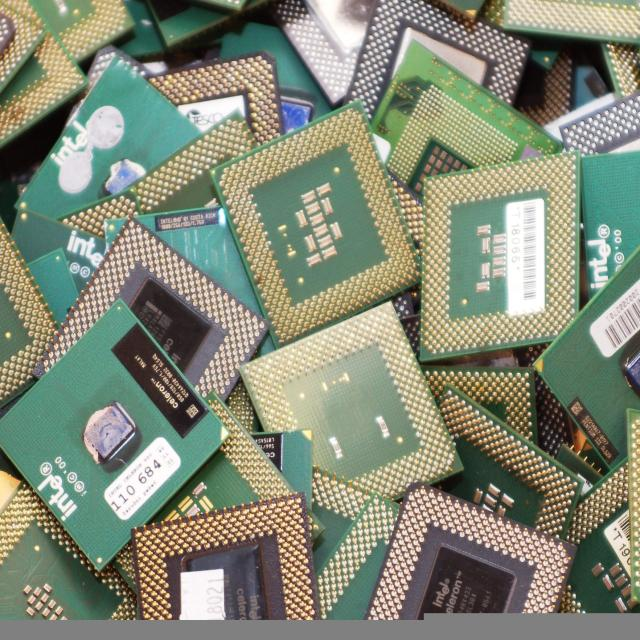Hazard: (9, 0, 636, 612)
